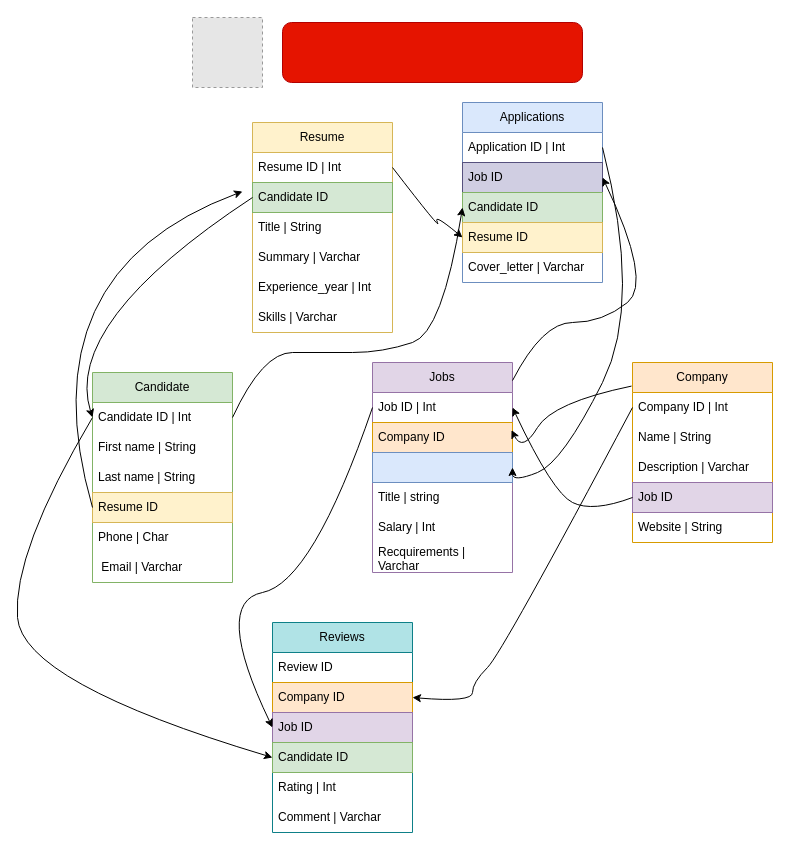
This 791x850 diagram has some shape labels left out. Grey dashed boxes stand in for pictures. The shapes that lost their labels are listed below. From the top down, each one's centre as x and y in pixels, then its label:
the point at 432,52: HeadHunter: пример базы данных
the point at 442,467: Application ID
